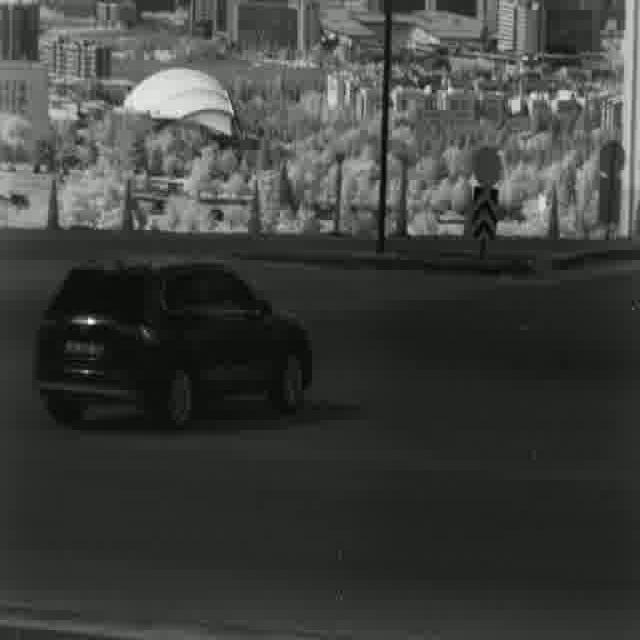Car: (31, 254, 314, 422)
